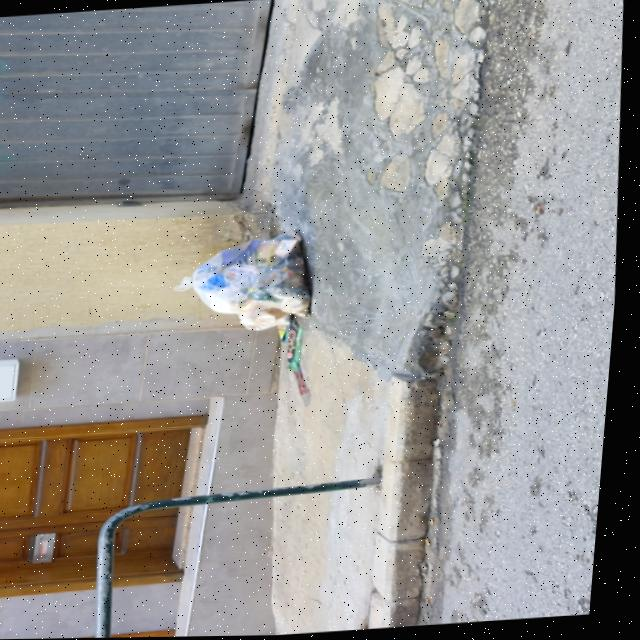Organic Waste -White Bag-: (191, 233, 326, 333)
